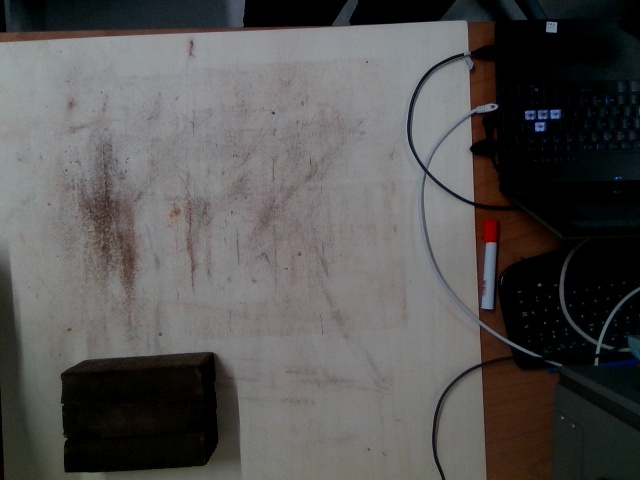brick-side: (64, 365, 201, 403), (62, 400, 199, 437), (63, 435, 200, 472)
